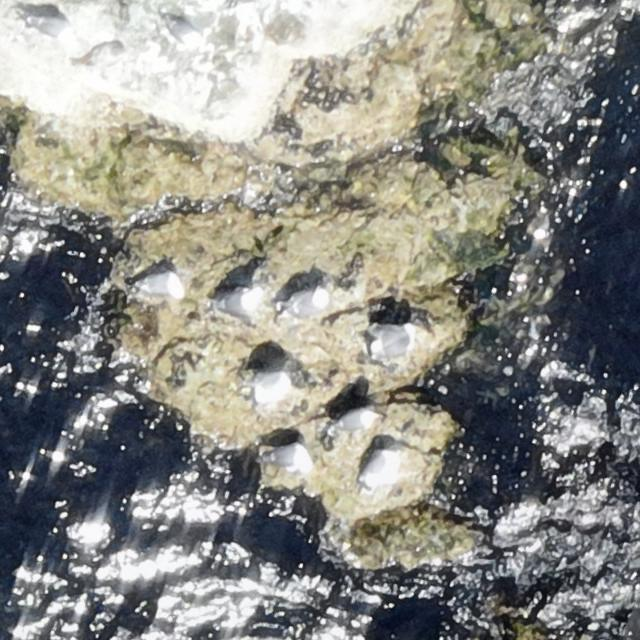umineko: (361, 446, 403, 488), (263, 442, 314, 476), (25, 13, 78, 44), (134, 270, 186, 301), (372, 324, 416, 358), (331, 407, 381, 435), (281, 288, 330, 316), (254, 372, 294, 405), (164, 18, 204, 50), (221, 287, 263, 312)
